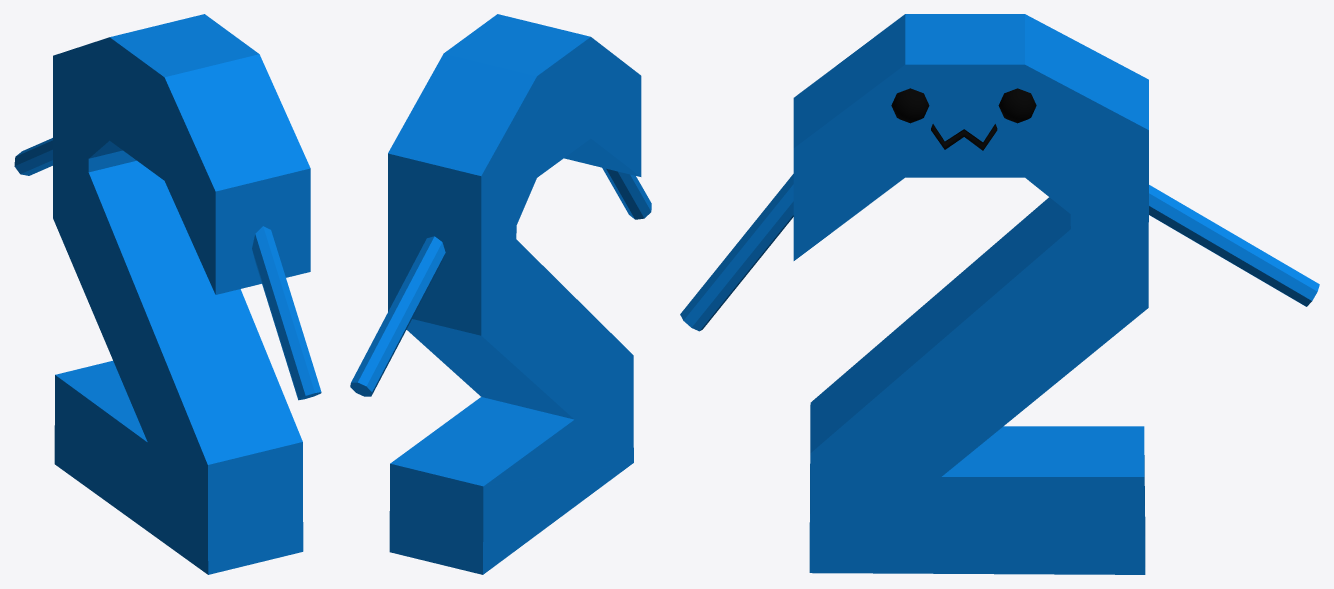
File: MathVil2.fbx
3 views of the same model, side by side, from view 1: azimuth 30°, elevation 25°; view 2: azimuth 150°, elevation 25°; view 3: azimuth 270°, elevation 25° (orthographic). The views are drawn at different scales.
Visible parts, largest first — view 1: pCylinder9; view 2: pCylinder9; view 3: pCylinder9.
Part boxes in pixels (bbox=[...]): pCylinder9: bbox=[14, 14, 321, 574]; pCylinder9: bbox=[350, 14, 651, 574]; pCylinder9: bbox=[680, 14, 1319, 574].
Bounding box in the file's own units: 1.14 × 4.7 × 5.34.
